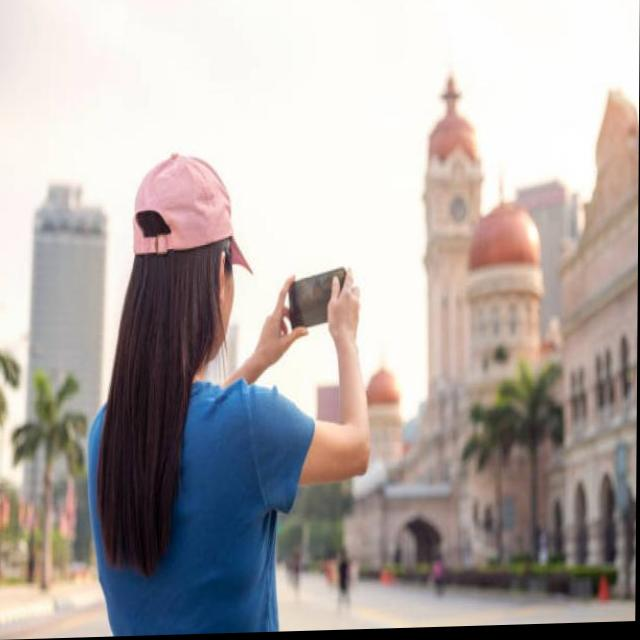no helmet: (118, 149, 263, 391)
